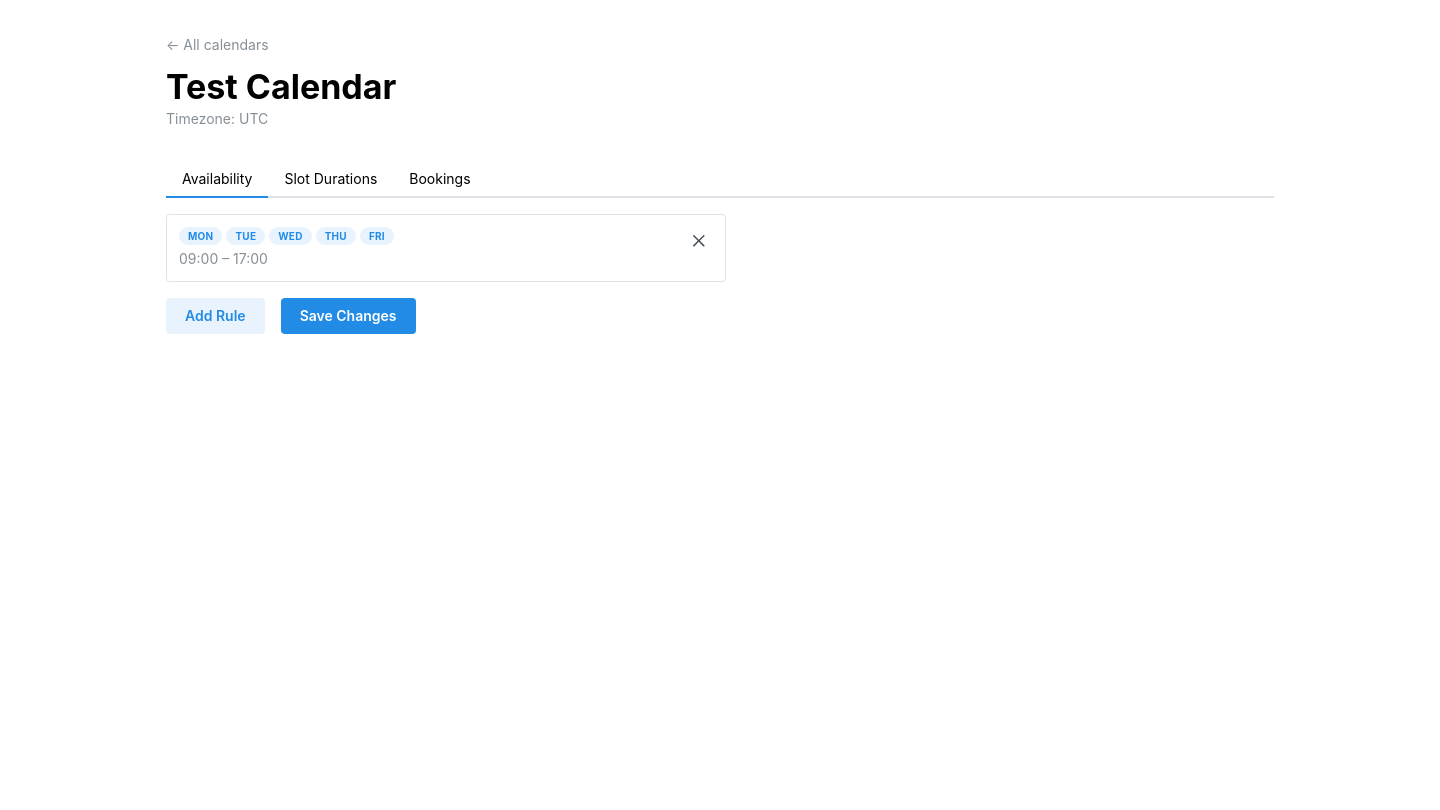
ManagePage › Availability tab (default) › opens "Add Rule" modal on button click
Expected: the heading "Test Calendar" is shown, [166,66,396,107]
Click the button "Add Rule".
click(215, 316)  # box [166,298,265,334]
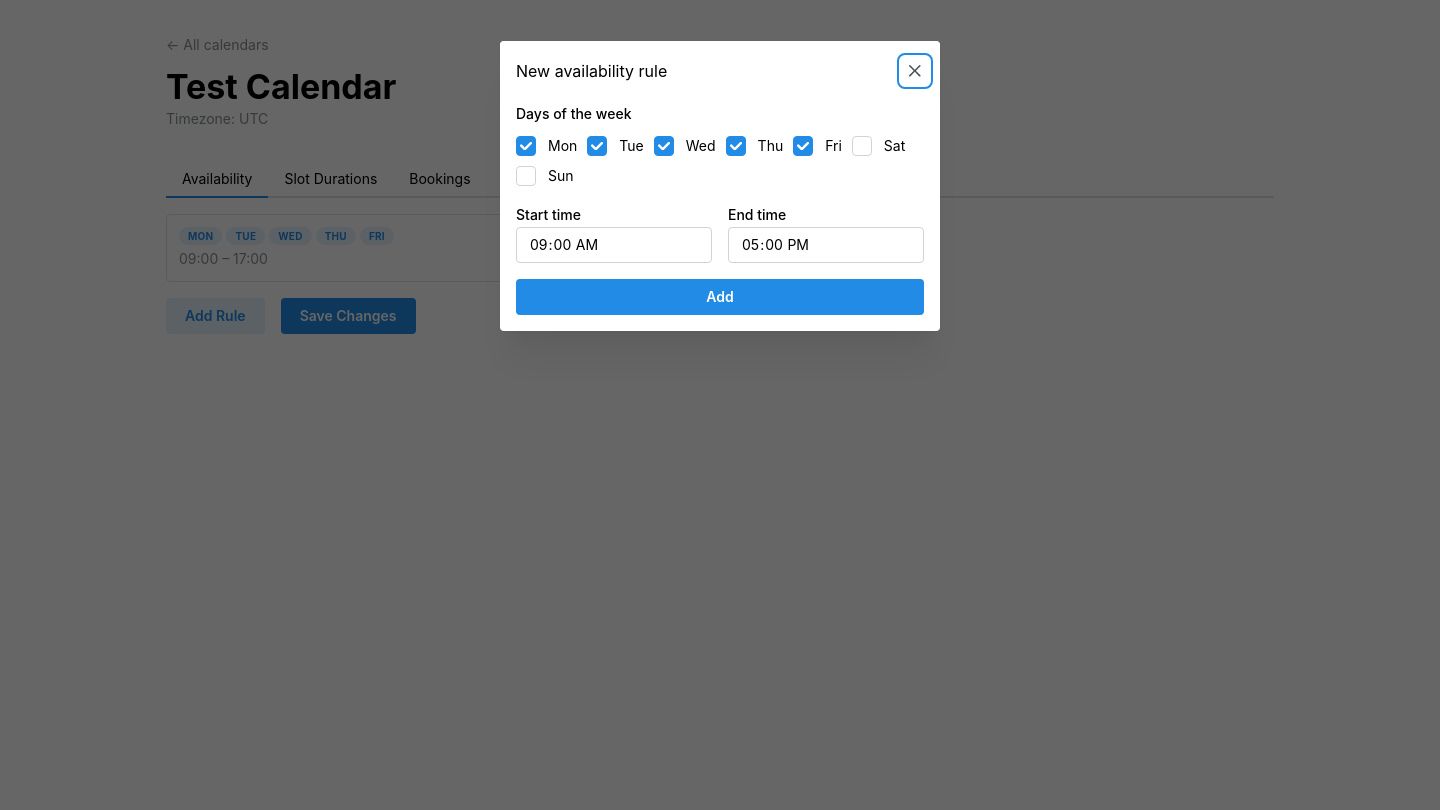
Result: the heading "New availability rule" is shown at [516,62,667,78]
